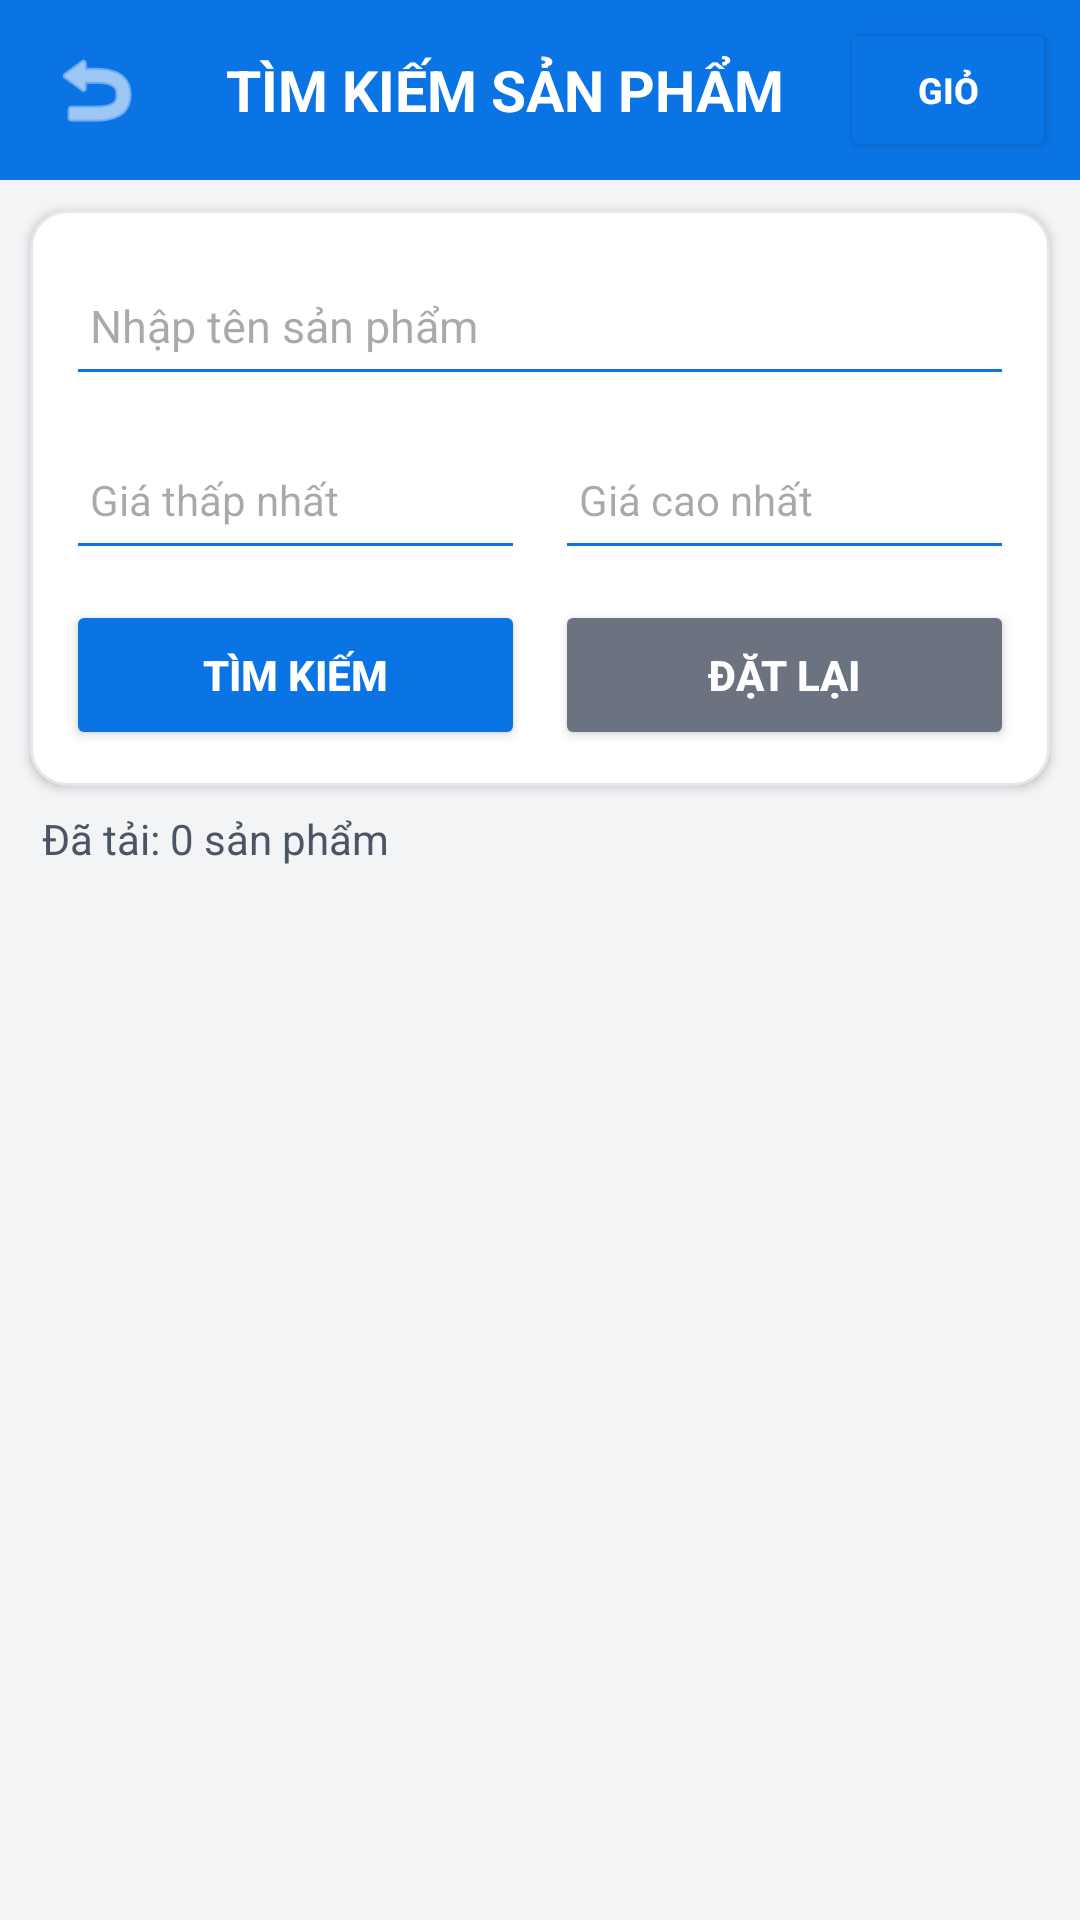

Icon click points for this 1080 x 1920 phone screenshot, format [x,y]:
Quay lại: [97,90]
